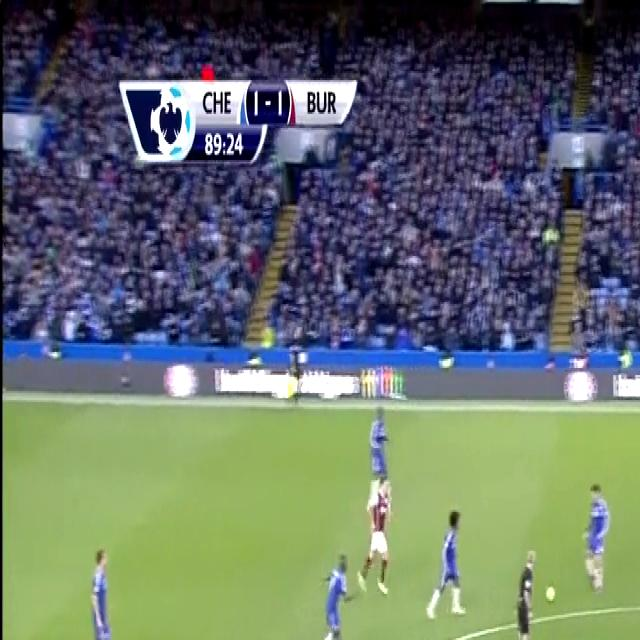ball: (545, 578, 560, 608)
referee: (503, 535, 539, 640), (279, 328, 313, 405)
soccer-player: (419, 500, 470, 630), (364, 475, 402, 606), (576, 472, 612, 600), (84, 531, 124, 640), (316, 542, 355, 640), (365, 401, 393, 492), (541, 631, 598, 640)
